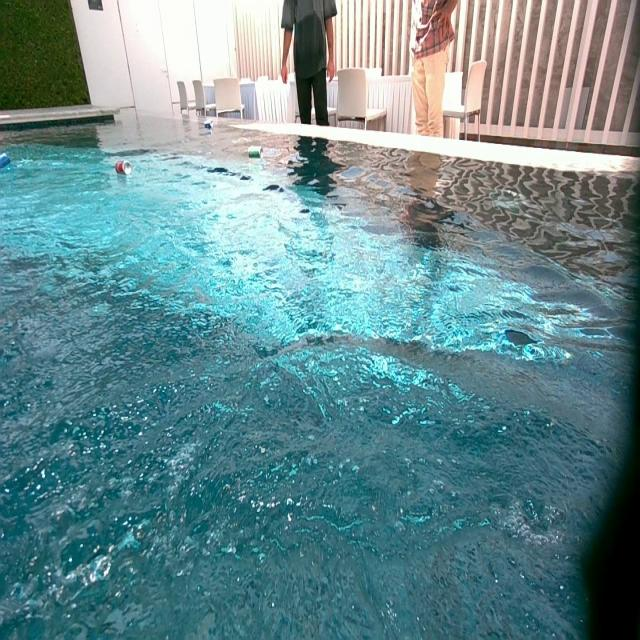Cans: (115, 162, 130, 177), (0, 153, 10, 175), (248, 145, 263, 159), (205, 120, 213, 128)
